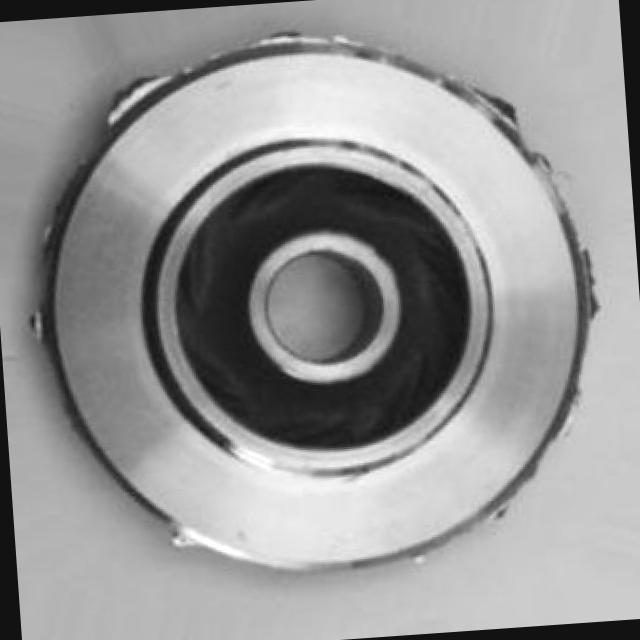Defect: (100, 75, 174, 114)
